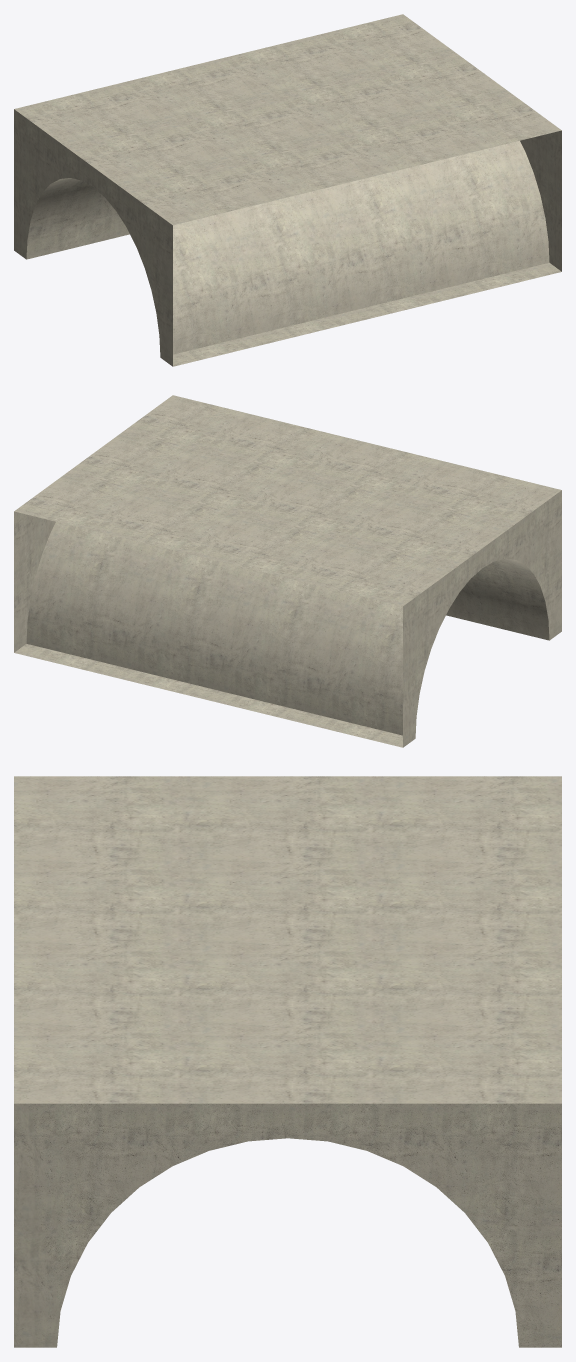
Rendered from BridgeBase8-2L.FBX.
3 renders of one model, top to bottom at view 1: azimuth 30°, elevation 25°; view 2: azimuth 150°, elevation 25°; view 3: azimuth 270°, elevation 25°, orthographic. The views are drawn at different scales.
Parts seen in each view (by area): view 1: BridgeBase8-2L; view 2: BridgeBase8-2L; view 3: BridgeBase8-2L.
Boxes of the visible parts, x1,y1,x2,y2 form: BridgeBase8-2L: (14, 14, 561, 366); BridgeBase8-2L: (14, 395, 561, 747); BridgeBase8-2L: (14, 776, 561, 1347).
Size of the model in its own units: 18 by 6.25 by 12.73.
